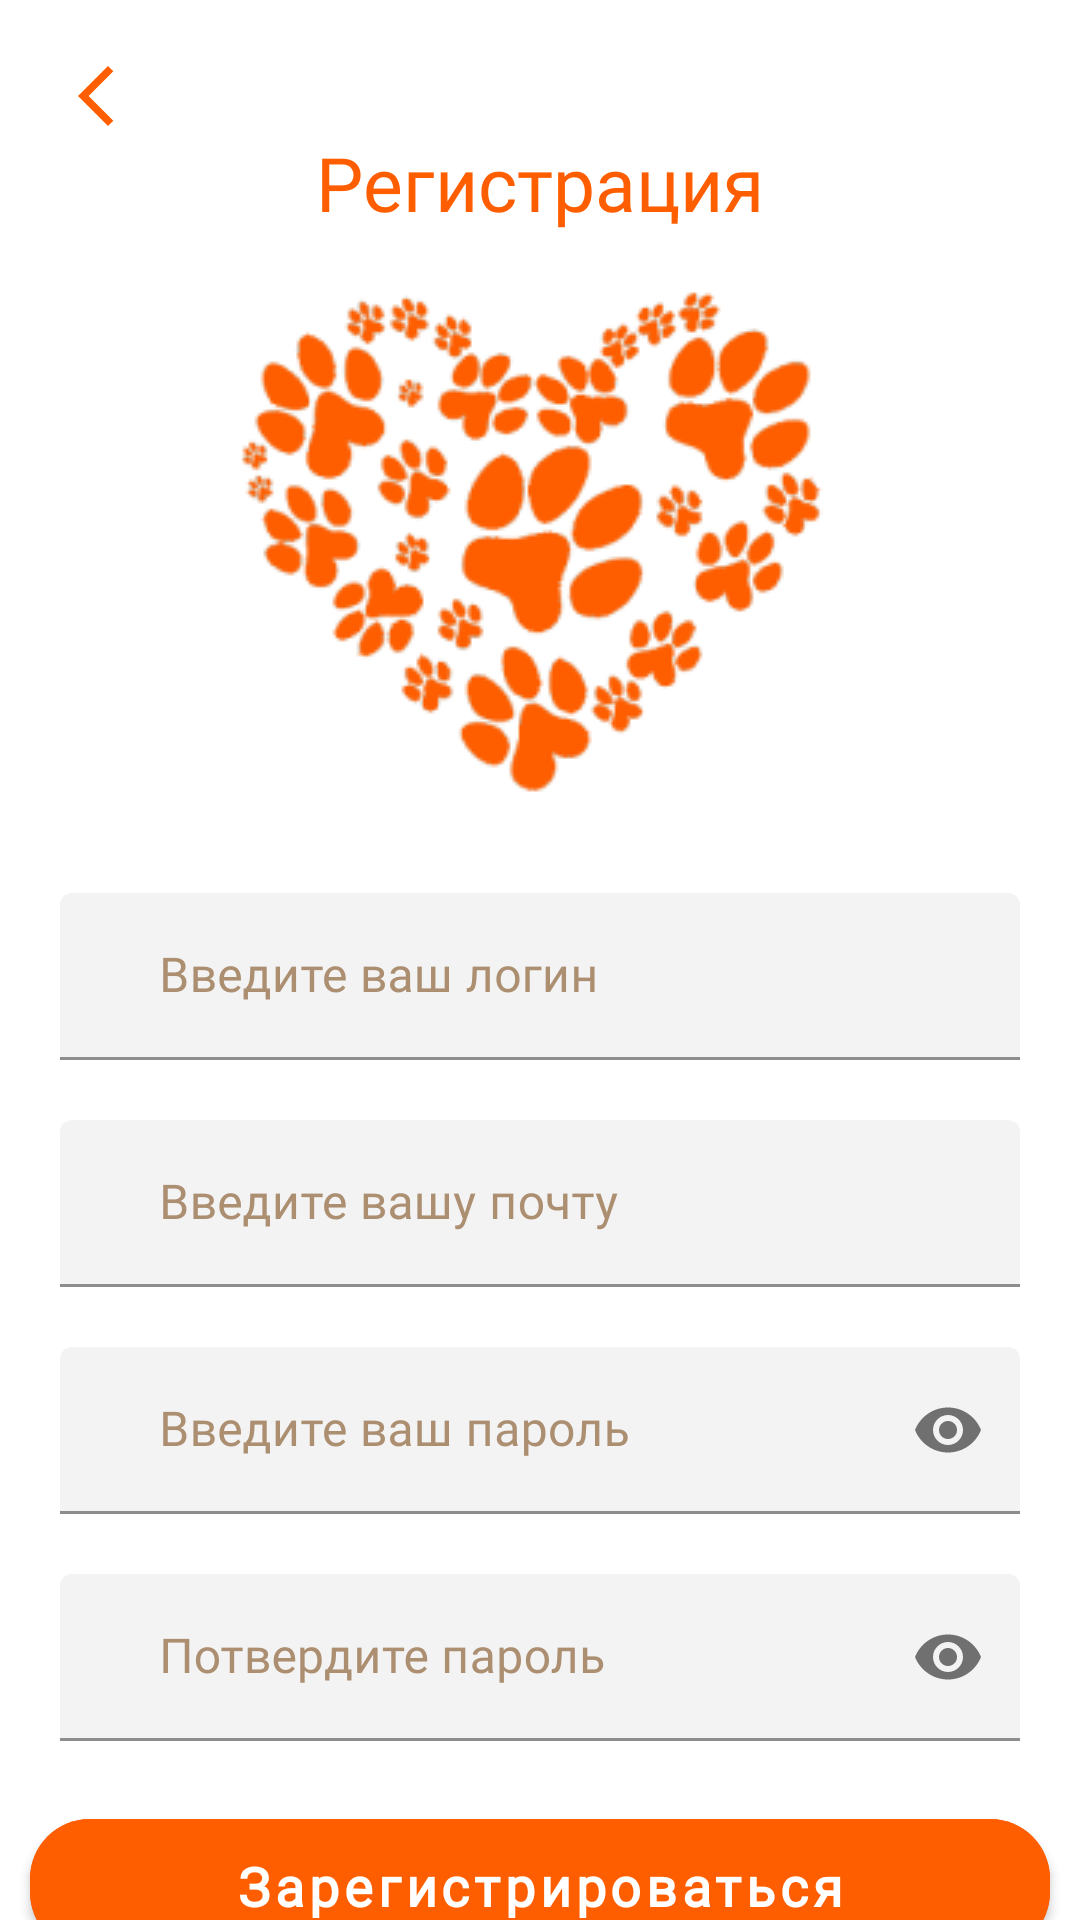

Icons on this 1080px×1920px Android screen, each with the point to tap as (x=x, y=y):
back: (x=95, y=96)
